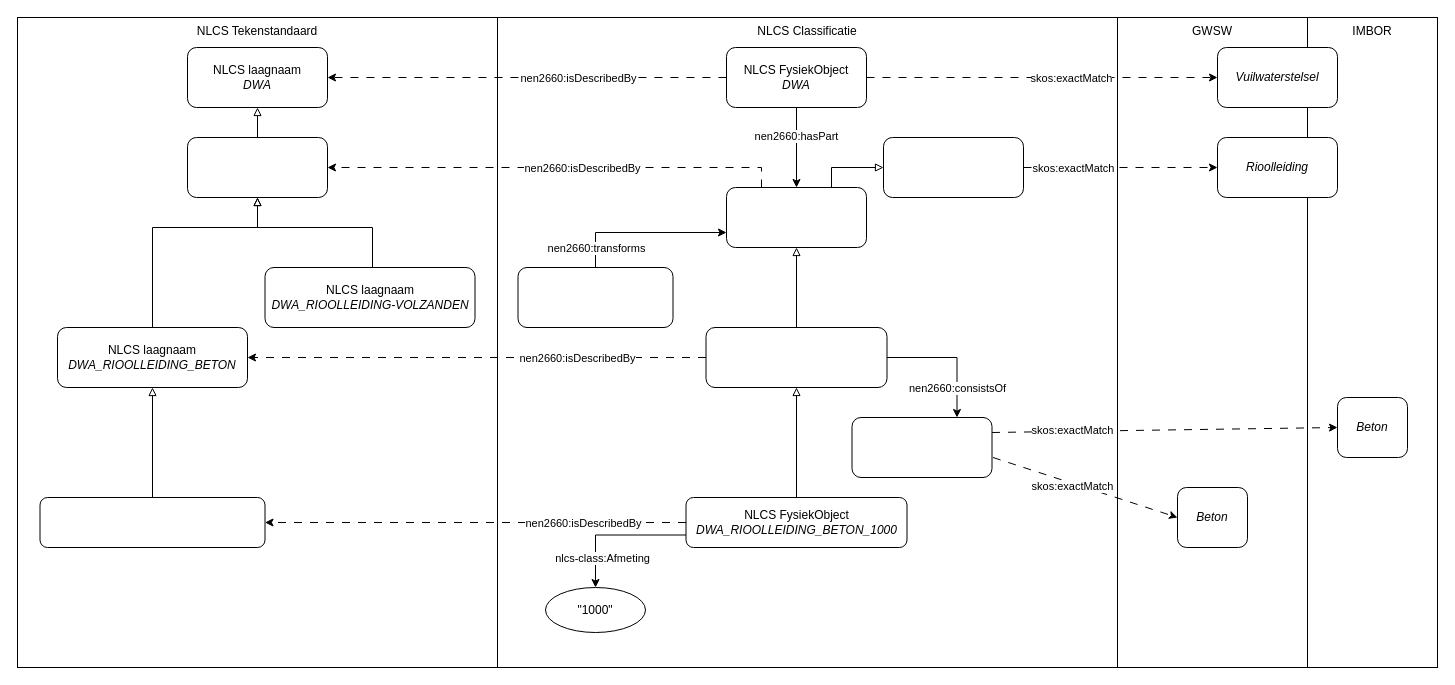
Image size: 1455x685. Some labels were removed from this diagram. The centre of each missing label's shape, as x and y in pixels:
"NLCS Activiteit VOLZANDEN" belongs at point 595,297.
"NLCS FysiekObject DWA_RIOOLLEIDING" belongs at point 796,217.
"NLCS FysiekObject DWA_RIOOLLEIDING_BETON" belongs at point 796,357.
"NLCS FysiekObject Rioolleiding" belongs at point 953,167.
"NLCS laagnaam DWA_RIOOLLEIDING" belongs at point 257,167.
"NLCS laagnaam DWA_RIOOLLEIDING_BETON_1000" belongs at point 152,522.
"NLCS Materiaal BETON" belongs at point 921,447.
